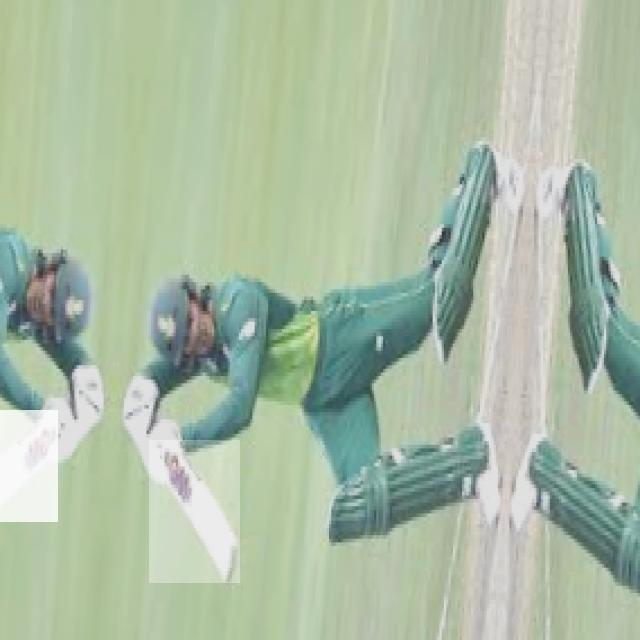bat: (145, 438, 242, 588)
toe: (224, 546, 238, 586)
